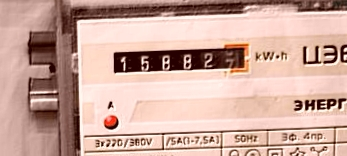1: (118, 55, 128, 71)
2: (202, 51, 213, 68)
5: (139, 54, 150, 71)
7: (225, 57, 234, 69)
8: (160, 54, 171, 71), (181, 53, 192, 70)
screen: (106, 38, 255, 83)
